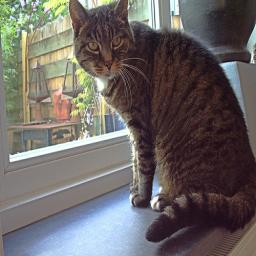catnose: (101, 56, 115, 72)
